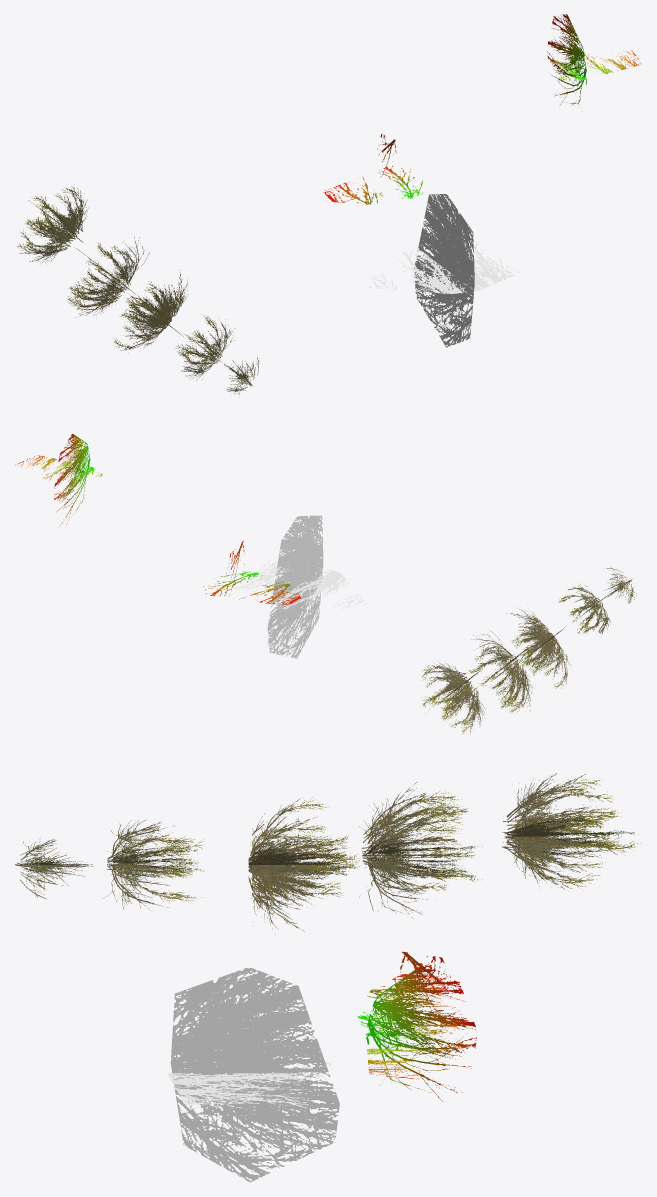
The model's file is Foliage_X90.fbx.
3 views of the same model, one above another, from view 1: azimuth 30°, elevation 25°; view 2: azimuth 150°, elevation 25°; view 3: azimuth 270°, elevation 25° (orthographic). The views are drawn at different scales.
Visible parts, largest first — view 1: _7osw_Var18_LOD6, Dead_Shrub_LOD6.004, Dead_Shrub_LOD6, Dead_Shrub_LOD6.002, _wx7z_Var1_LOD6, Dead_Shrub_LOD6.001, _jq15_Var19_LOD6; view 2: _7osw_Var18_LOD6, Dead_Shrub_LOD6.004, Dead_Shrub_LOD6, Dead_Shrub_LOD6.002, _wx7z_Var1_LOD6, Dead_Shrub_LOD6.001, _jq15_Var19_LOD6; view 3: _7osw_Var18_LOD6, Dead_Shrub_LOD6.004, Dead_Shrub_LOD6.002, Dead_Shrub_LOD6, _wx7z_Var1_LOD6, Dead_Shrub_LOD6.001, Dead_Shrub_LOD6.003, _jq15_Var19_LOD6.
Boxes of the visible parts, <box> form: _7osw_Var18_LOD6: <box>368,194,518,347</box>; Dead_Shrub_LOD6.004: <box>17,184,88,262</box>; Dead_Shrub_LOD6: <box>114,270,188,350</box>; Dead_Shrub_LOD6.002: <box>67,236,149,317</box>; _wx7z_Var1_LOD6: <box>547,14,640,105</box>; Dead_Shrub_LOD6.001: <box>175,315,235,380</box>; _jq15_Var19_LOD6: <box>323,134,423,204</box>; _7osw_Var18_LOD6: <box>232,515,366,658</box>; Dead_Shrub_LOD6.004: <box>421,661,484,734</box>; Dead_Shrub_LOD6: <box>506,609,570,688</box>; Dead_Shrub_LOD6.002: <box>466,630,532,712</box>; _wx7z_Var1_LOD6: <box>15,434,104,526</box>; Dead_Shrub_LOD6.001: <box>559,584,611,636</box>; _jq15_Var19_LOD6: <box>203,541,300,605</box>; _7osw_Var18_LOD6: <box>168,968,339,1182</box>; Dead_Shrub_LOD6.004: <box>502,773,641,889</box>; Dead_Shrub_LOD6.002: <box>359,781,482,919</box>; Dead_Shrub_LOD6: <box>248,797,359,934</box>; _wx7z_Var1_LOD6: <box>365,966,476,1101</box>; Dead_Shrub_LOD6.001: <box>103,820,205,910</box>; Dead_Shrub_LOD6.003: <box>15,838,93,899</box>; _jq15_Var19_LOD6: <box>357,951,464,1036</box>.
Size of the model in its own units: 524 by 218 by 365.
